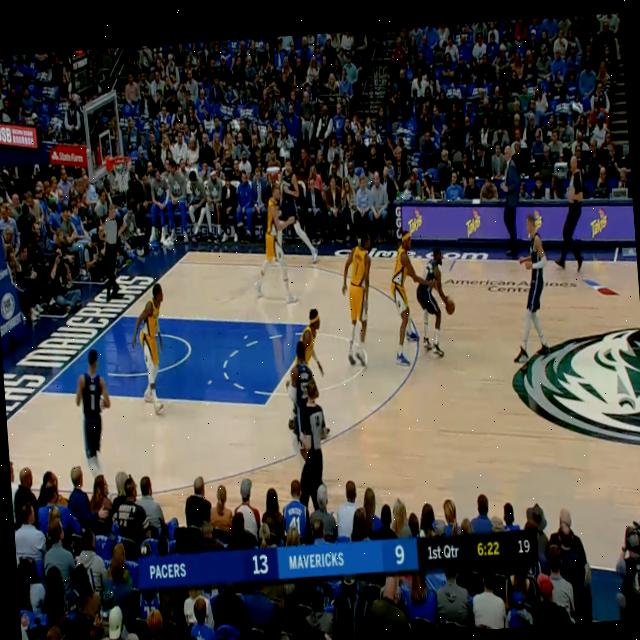no foul: (270, 300, 340, 447), (384, 218, 454, 362), (252, 156, 318, 294)
